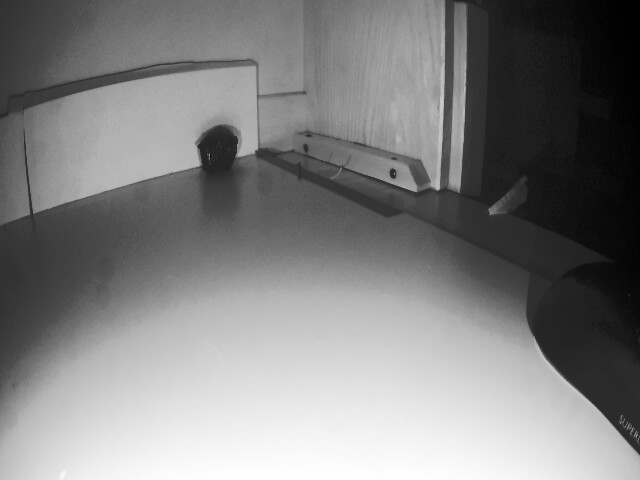silver: (189, 122, 245, 174)
